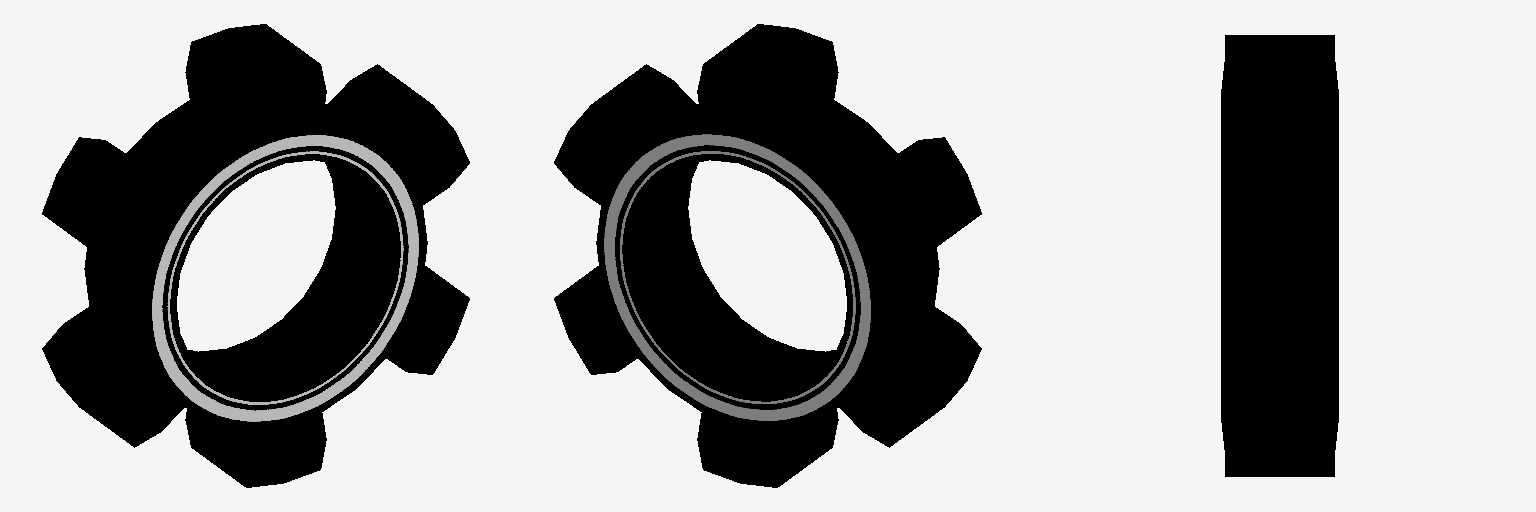
3 views of the same model, side by side, from view 1: azimuth 30°, elevation 25°; view 2: azimuth 150°, elevation 25°; view 3: azimuth 270°, elevation 25° (orthographic).
Parts seen in each view (by area): view 1: Gear_S; view 2: Gear_S; view 3: Gear_S.
Part boxes in pixels (left/top/right/bottom): Gear_S: left=42, top=24, right=469, bottom=487; Gear_S: left=554, top=24, right=981, bottom=487; Gear_S: left=1221, top=35, right=1338, bottom=476.
Bounding box in the file's own units: 3.28 × 3.48 × 0.9.
Materials: 1 (1 with a texture image).